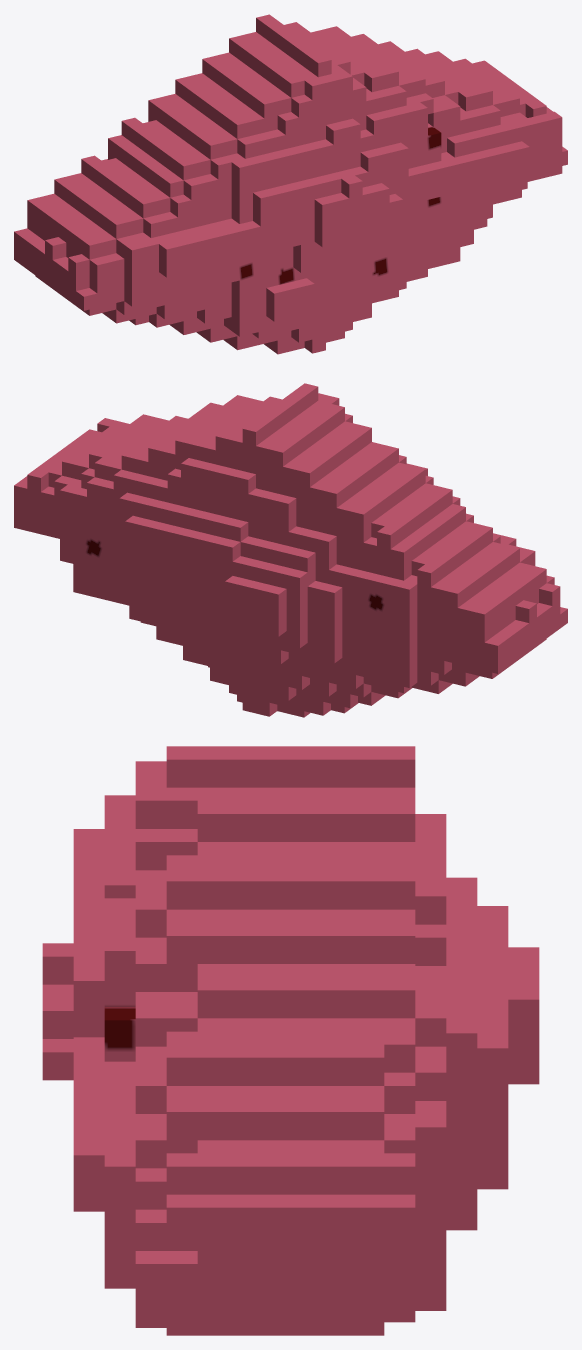
File: satumaimo.glb
The picture shows the model from 3 angles, top to bottom: view 1: azimuth 30°, elevation 25°; view 2: azimuth 150°, elevation 25°; view 3: azimuth 270°, elevation 25°; orthographic projection. The views are drawn at different scales.
Visible parts, largest first — view 1: satumaimo; view 2: satumaimo; view 3: satumaimo.
Boxes of the visible parts, x1=… form: satumaimo: x1=14, y1=14, x2=567, y2=354; satumaimo: x1=14, y1=383, x2=567, y2=717; satumaimo: x1=42, y1=746, x2=539, y2=1335.
Size of the model in its own units: 0.72 by 0.4 by 0.32.
1 material, 1 textured.
